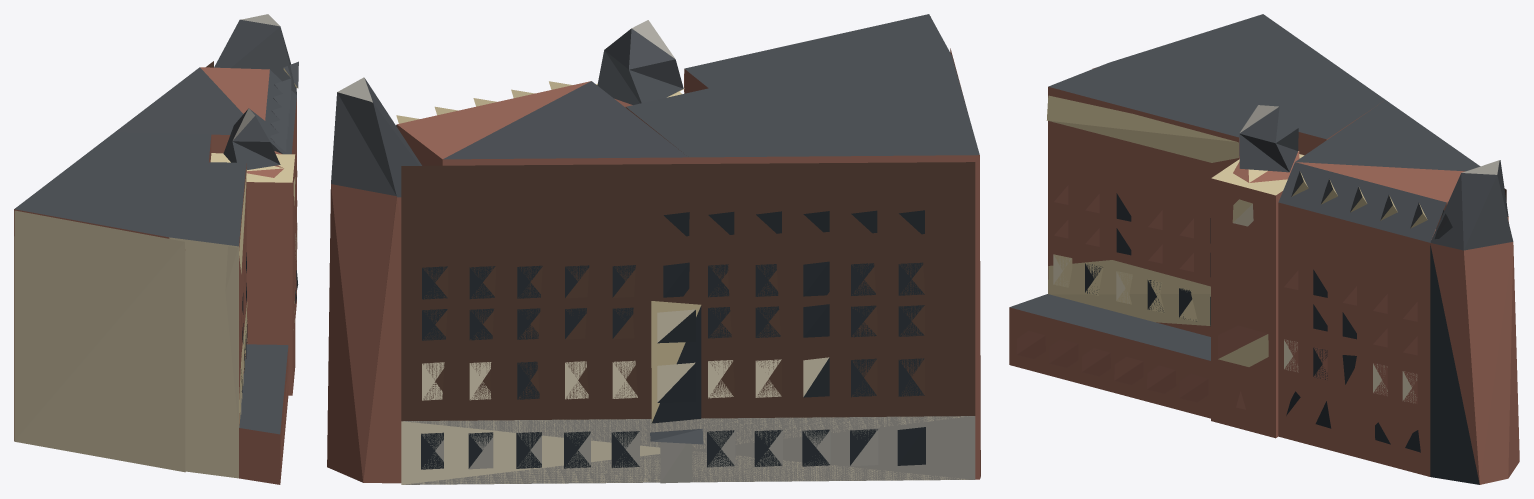
The model's file is doelen-hotel.lod2.glb.
3 renders of one model, left to right at view 1: azimuth 30°, elevation 25°; view 2: azimuth 150°, elevation 25°; view 3: azimuth 270°, elevation 25°, orthographic. The views are drawn at different scales.
Visible parts, largest first — view 1: lod2; view 2: lod2; view 3: lod2.
Part boxes in pixels (box(x1,y1,x2,y2)): lod2: box(14, 14, 298, 484); lod2: box(327, 14, 980, 484); lod2: box(1009, 14, 1519, 484).
Bounding box in the file's own units: 40.84 × 28.3 × 42.69.
